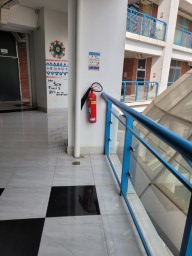fire_extinguisher: (61, 118, 93, 148), (62, 118, 93, 140), (68, 127, 93, 140)
